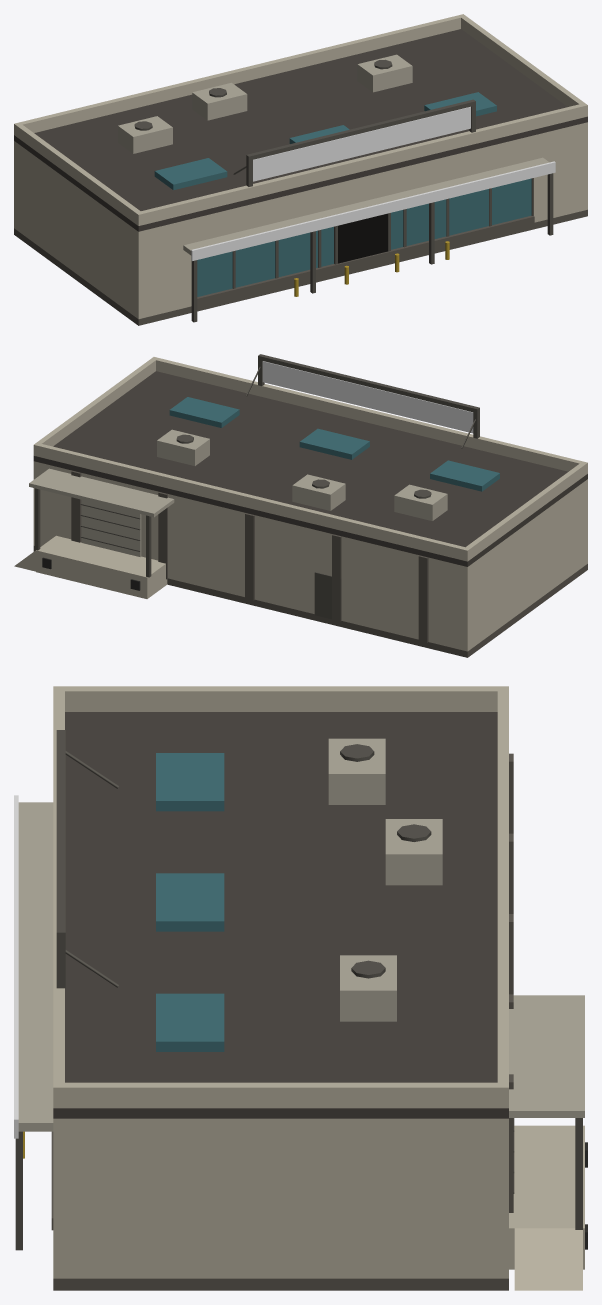
The picture shows the model from 3 angles, top to bottom: view 1: azimuth 30°, elevation 25°; view 2: azimuth 150°, elevation 25°; view 3: azimuth 270°, elevation 25°; orthographic projection. The views are drawn at different scales.
Visible parts, largest first — view 1: site_supermarket_restored; view 2: site_supermarket_restored; view 3: site_supermarket_restored.
Part boxes in pixels (x1,y1,x2,y2): site_supermarket_restored: (14, 14, 587, 325); site_supermarket_restored: (14, 354, 587, 657); site_supermarket_restored: (14, 686, 587, 1290).
Size of the model in its own units: 25 by 7.52 by 15.12.
